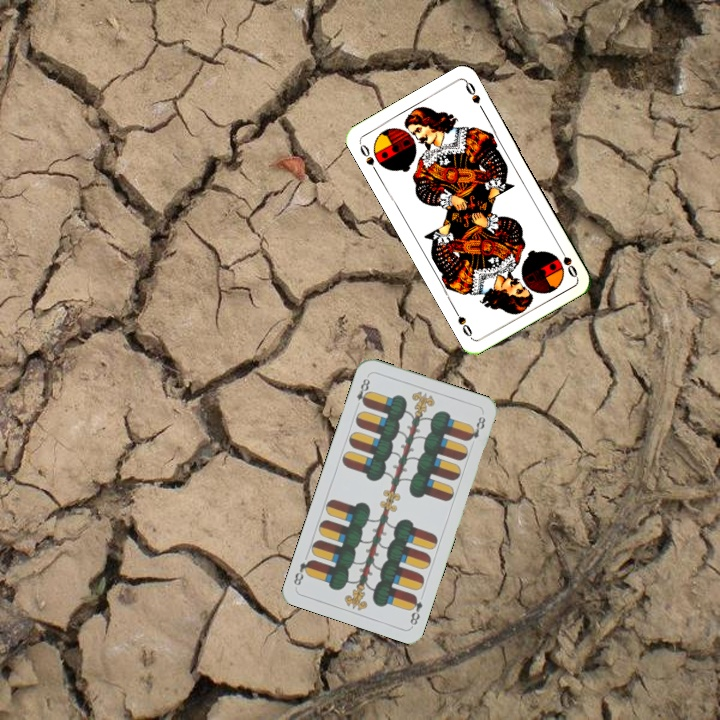E8: (352, 372, 372, 411), (406, 591, 425, 628)
SO: (554, 242, 580, 280), (355, 139, 381, 176)
